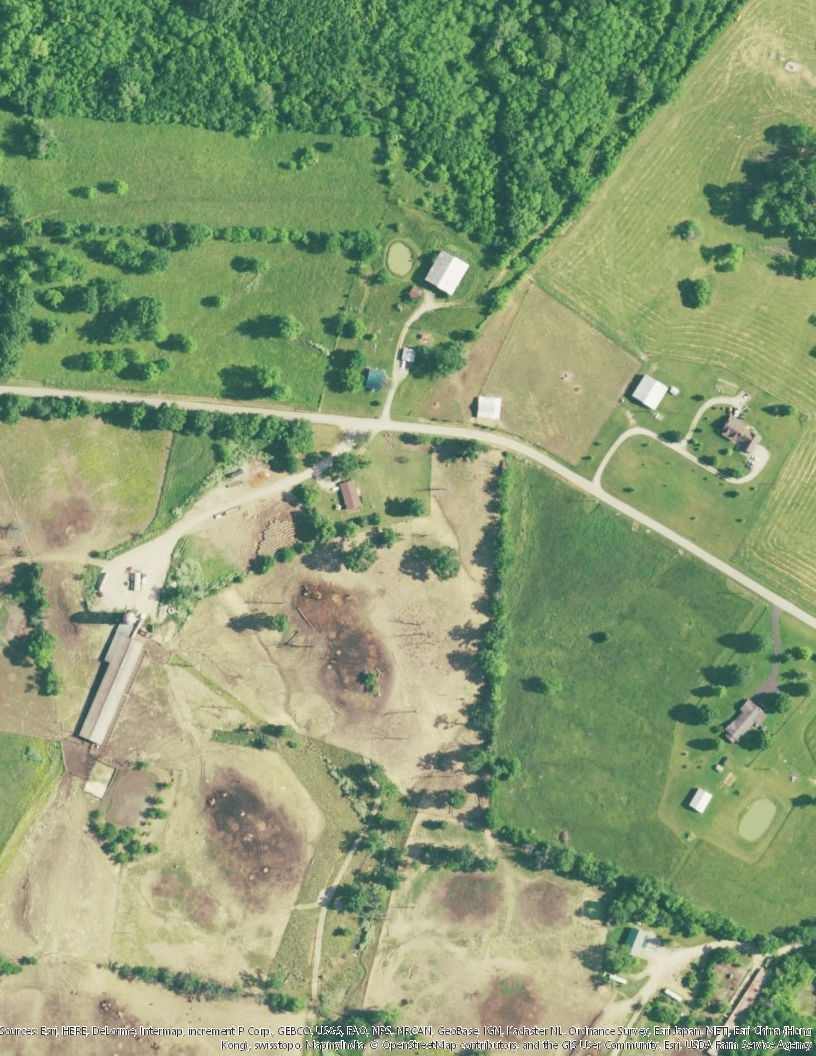cafo: (75, 610, 150, 747), (425, 248, 471, 296)
